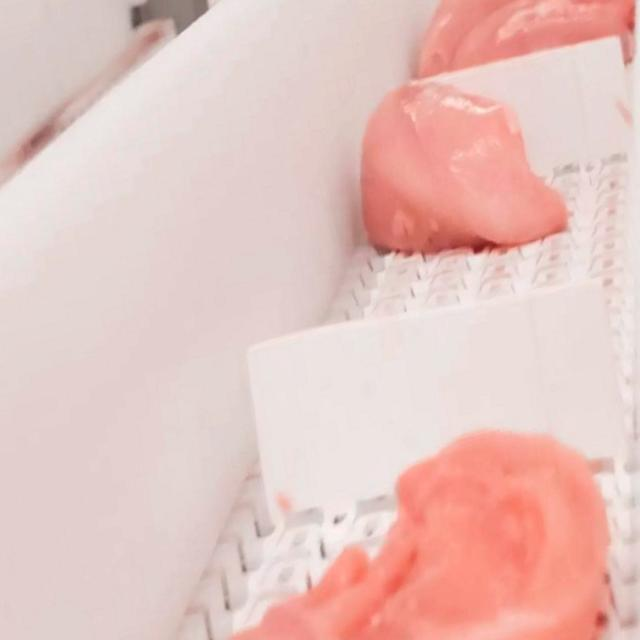food: (227, 426, 615, 638), (358, 75, 570, 255), (414, 0, 636, 81)
